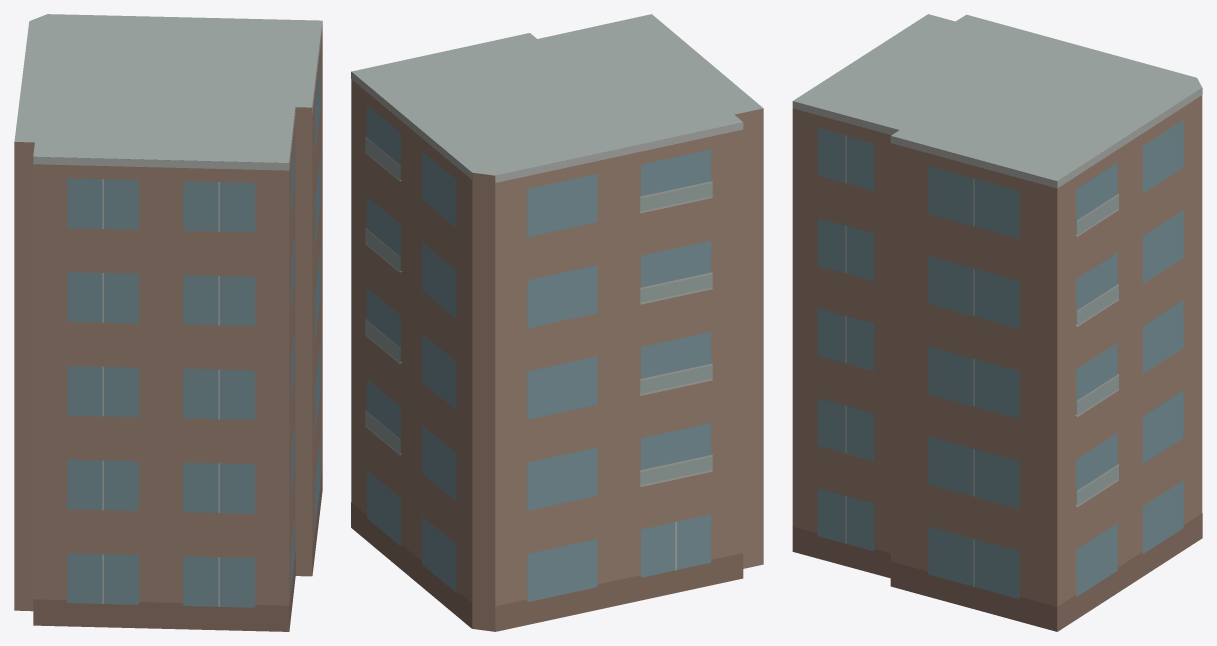
The model's file is survey-upis-32542577.glb.
3 views of the same model, side by side, from view 1: azimuth 30°, elevation 25°; view 2: azimuth 150°, elevation 25°; view 3: azimuth 270°, elevation 25° (orthographic). The views are drawn at different scales.
Parts seen in each view (by area): view 1: survey-upis-32542577.tmp; view 2: survey-upis-32542577.tmp; view 3: survey-upis-32542577.tmp.
Part boxes in pixels (x1,y1,x2,y2): survey-upis-32542577.tmp: [14, 14, 322, 631]; survey-upis-32542577.tmp: [351, 14, 763, 631]; survey-upis-32542577.tmp: [792, 14, 1202, 631].
Size of the model in its own units: 12.03 by 15.1 by 12.45.
